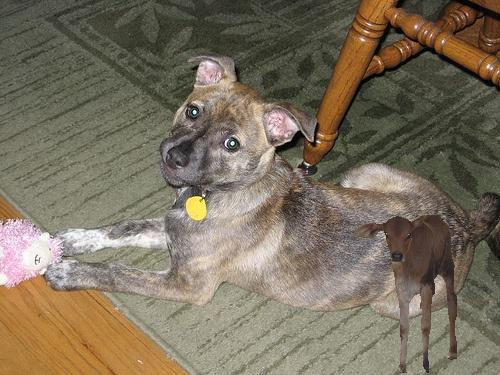tampered: (354, 216, 457, 373)
